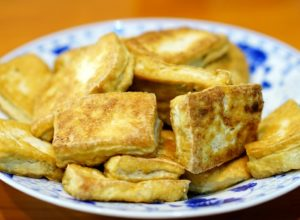Tahu: (166, 81, 270, 161), (53, 87, 158, 157), (52, 29, 131, 97), (244, 89, 298, 176)
